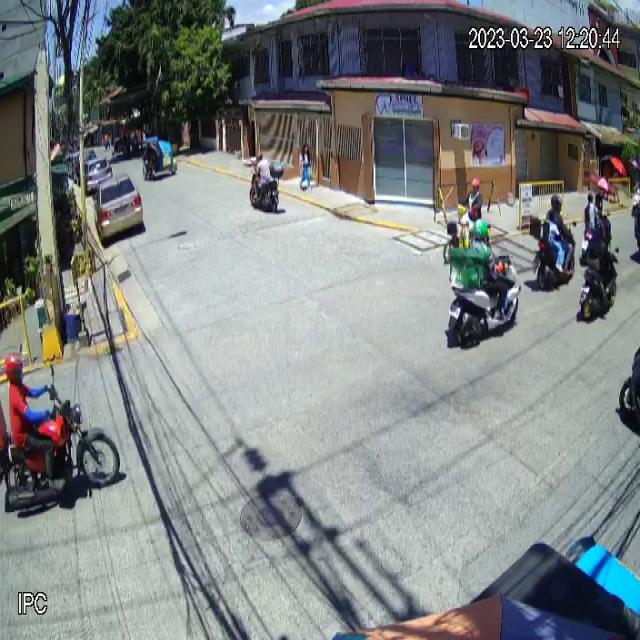Motorcycle: (0, 375, 120, 520), (443, 240, 519, 342)
